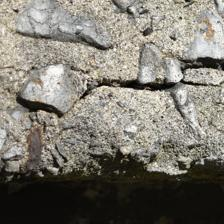Crack: (30, 25, 191, 96)
